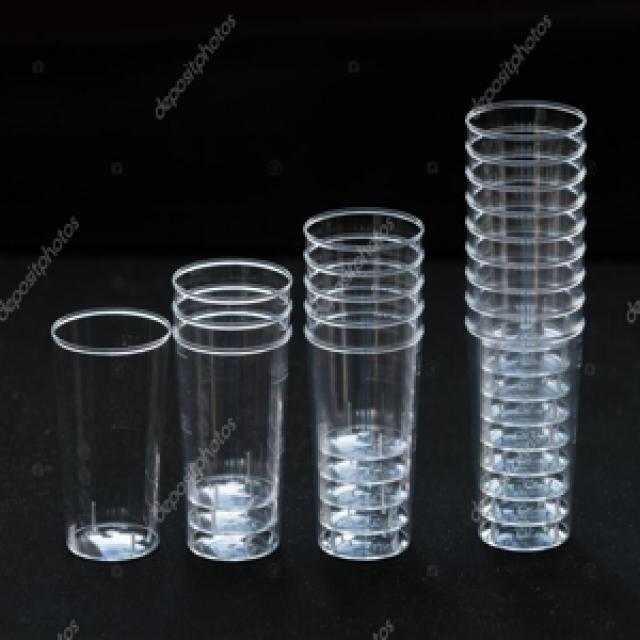plastic cup: (458, 98, 586, 557), (296, 207, 426, 567), (168, 256, 301, 567), (49, 305, 177, 563)
